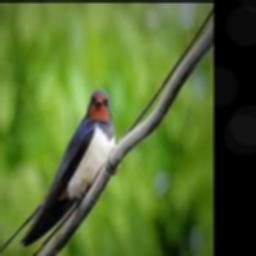Swallow: (0, 87, 116, 255)
